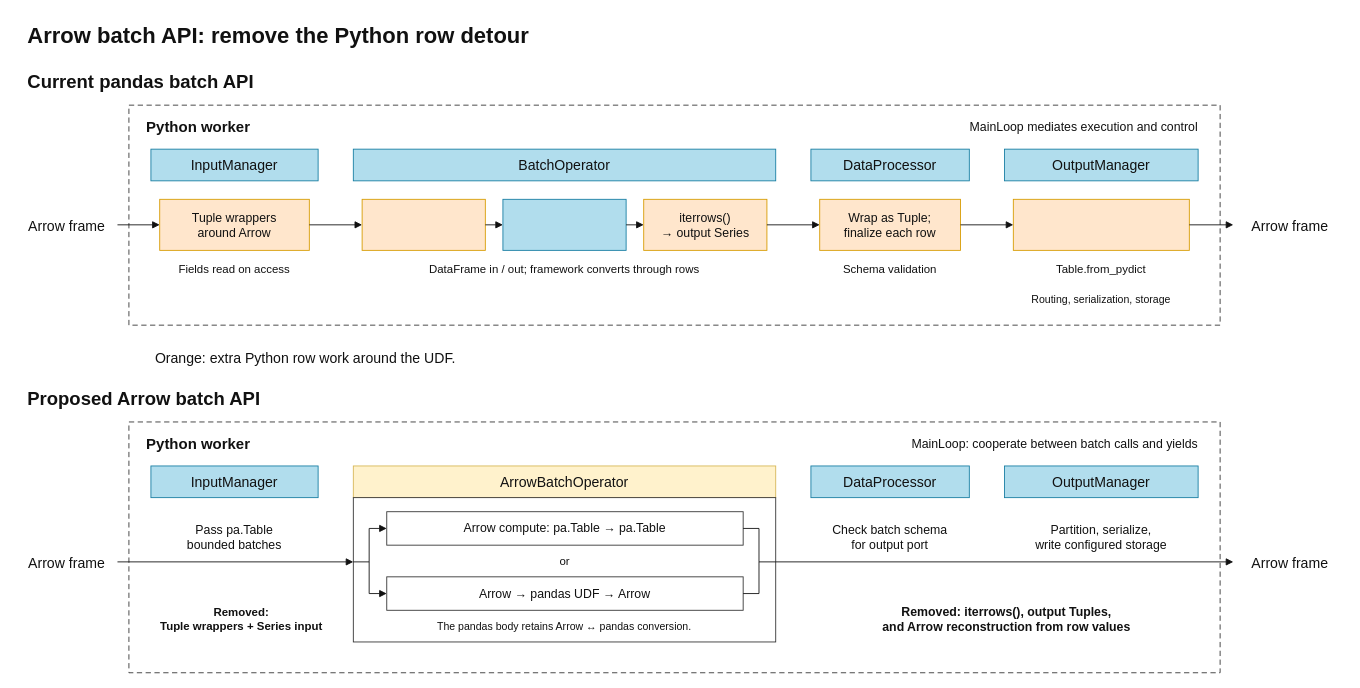
This 1360x688 diagram has some shape labels left out. Here are the shapes that lost their labels. From the top down, the centre of each, then its label:
At point 423,224: "Tuples / Series → DataFrame".
At point 564,224: "pandas UDF".
At point 1100,224: "Rebuild Arrow from row values".
